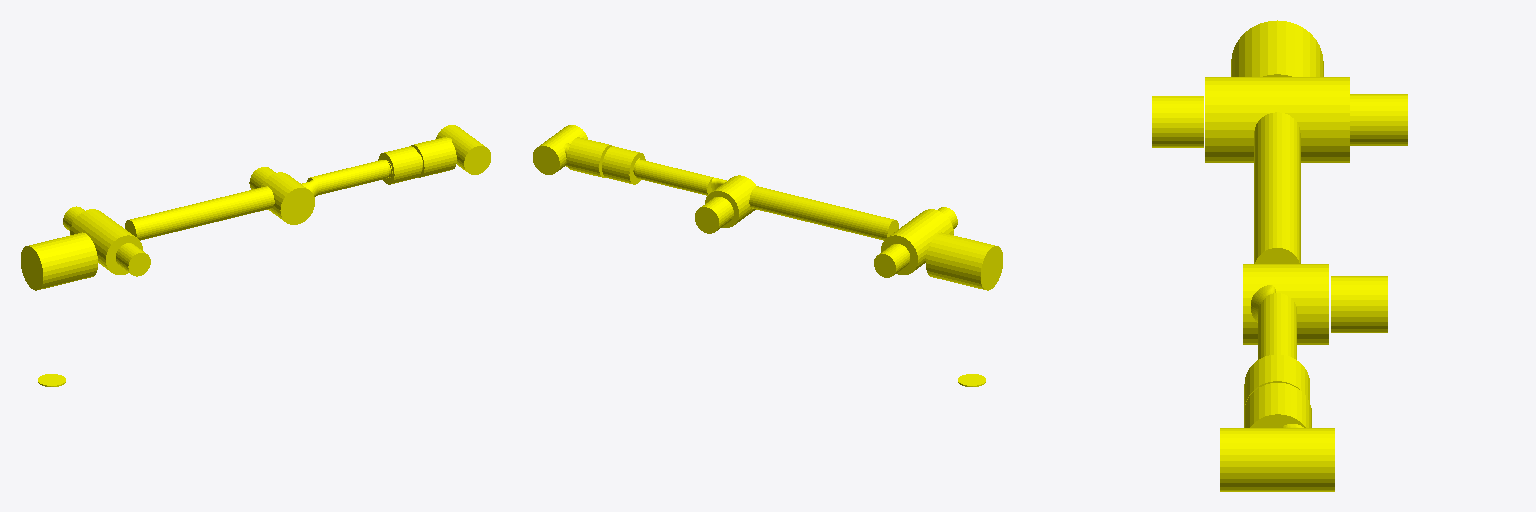
robot.urdf — Sherpa_tt:
<?xml version="1.0"?>
<robot name="Sherpa_tt">
    <material name="Yellow">
        <color rgba="1.0 1.0 0.0 0.5"/>
    </material>
    <material name="Gray">
        <color rgba="0.85 0.85 0.85 1.0"/>
    </material>
    <material name="Black">
        <color rgba="0 0 0 1.0"/>
    </material>

	<!-- Rover -->

    <link name="body">        
        <inertial>
            <origin xyz="0 0 0" rpy="0 0 0"/>
            <mass value="14.1"/>
            <inertia ixx="0" ixy="0" ixz="0" iyy="0" iyz="0" izz="0"/>
        </inertial>
    </link>


    <!-- Manipulator -->

	<!-- Arm mount dummy joint -->
    <joint name="arm_mount_joint" type="fixed">                
            <origin xyz="0.0 0.0 0.0" rpy="0 0 0"/>
            <axis xyz="0 0 1" rpy="0 0 0"/>
            <parent link="body"/>
            <child link="arm_mount_link"/>
            <limit lower="-3.1415926535897931" upper="3.1415926535897931" effort="10" velocity="3.1415926535897931"/>
    </joint>

    <link name="arm_mount_link">
            <visual>
                    <material name="Yellow"/>
                    <origin xyz="0 0 0 " rpy="0 0 0"/>
                    <geometry>
                            <cylinder length="0.005" radius="0.05"/>
                    </geometry>
            </visual>
    </link>

    <link name="arm_link_1">
        <inertial>
            <origin xyz="0 0 0.0" rpy="0 0 0"/>
            <mass value="5.0"/>
            <inertia ixx="0" ixy="0" ixz="0" iyy="0" iyz="0" izz="0"/>
        </inertial>
        <visual>
            <material name="Yellow"/>
            <origin xyz="0 0 0.0" rpy="0 0 0"/>
            <geometry>
                <mesh filename="./meshes/manipulator/sherpa_arm_joint_1.stl" scale="0.001 0.001 0.001"/>
            </geometry>
        </visual>
        <visual>
            <material name="Yellow"/>
            <origin xyz="0.22 0 0.48" rpy="0 1.570796327 1.570796327"/>
            <geometry>
                <!--mesh filename="./meshes/manipulator/sherpa_arm_joint_1.stl" scale="0.001 0.001 0.001" /-->
                <cylinder length="0.25" radius="0.075"/>
            </geometry>
        </visual>
        <visual>
            <material name="Yellow"/>
            <origin xyz="0.22 0.176 0.48" rpy="0 1.570796327 1.570796327"/>
            <geometry>
                <!--mesh filename="./meshes/manipulator/sherpa_arm_joint_1.stl" scale="0.001 0.001 0.001" /-->
                <cylinder length="0.1" radius="0.045"/>
            </geometry>
        </visual>
        <visual>
            <material name="Yellow"/>
            <origin xyz="0.2275 -0.172 0.48" rpy="0 1.570796327 1.570796327"/>
            <geometry>
                <!--mesh filename="./meshes/manipulator/sherpa_arm_joint_1.stl" scale="0.001 0.001 0.001" /-->
                <cylinder length="0.09" radius="0.045"/>
            </geometry>
        </visual>
        <visual>
            <material name="Yellow"/>
            <origin xyz="0.03 0.0 0.45" rpy="0 1.570796327 0"/>
            <geometry>
                <cylinder length="0.22" radius="0.08"/>
                <!--cylinder length="0.24" radius="0.08"/-->
            </geometry>
        </visual>
	<collision>
            <material name="Yellow"/>
            <origin xyz="0.22 0 0.48" rpy="0 1.570796327 1.570796327"/>
            <geometry>
                <cylinder length="0.25" radius="0.075"/>
            </geometry>
        </collision>
        <collision>
            <material name="Yellow"/>
            <origin xyz="0.22 0.176 0.48" rpy="0 1.570796327 1.570796327"/>
            <geometry>
                <cylinder length="0.1" radius="0.045"/>
            </geometry>
        </collision>
        <collision>
            <material name="Yellow"/>
            <origin xyz="0.2275 -0.172 0.48" rpy="0 1.570796327 1.570796327"/>
            <geometry>
                <cylinder length="0.09" radius="0.045"/>
            </geometry>
        </collision>
        <collision>
            <material name="Yellow"/>
            <origin xyz="0.03 0.0 0.45" rpy="0 1.570796327 0"/>
            <geometry>
                <cylinder length="0.22" radius="0.08"/>
            </geometry>
    </collision>
    </link>
    <joint name="arm_joint_1" type="revolute">
        <parent link="arm_mount_link"/>
        <child link="arm_link_1"/>
        <origin xyz="0 0 0.0" rpy="0 0 0"/>
        <axis xyz="0 0 1"/>
        <limit lower="-3.05432" upper="+3.05432" effort="1" velocity="3.1415926535897931"/>
    </joint>

    <link name="arm_link_2">
        <inertial>
            <origin xyz="0 0 0.0" rpy="0 0 0.0"/>
            <mass value="5.0"/>
            <inertia ixx="0" ixy="0" ixz="0" iyy="0" iyz="0" izz="0"/>
        </inertial>
        <visual>
            <material name="Yellow"/>
            <origin xyz="0 0 0.0" rpy="0 0 0"/>
            <geometry>
                <mesh filename="./meshes/manipulator/sherpa_arm_joint_2.stl" scale="0.001 0.001 0.001"/>
            </geometry>
        </visual>
        <visual>
            <material name="Yellow"/>
            <origin xyz="0.37 0.0 0.0" rpy="0 1.570796327 0"/>
            <geometry>
                <cylinder length="0.555" radius="0.04"/>
            </geometry>
        </visual>
        <visual>
            <material name="Yellow"/>
            <origin xyz="0.73 0.03 0.015" rpy="0 0 0"/>
            <geometry>
                <cylinder length="0.148" radius="0.07"/>
            </geometry>
        </visual>
        <visual>
            <material name="Yellow"/>
            <origin xyz="0.73 0.03 0.142" rpy="0 0 0"/>
            <geometry>
                <cylinder length="0.1" radius="0.05"/>
            </geometry>
        </visual>
        <collision>
            <material name="Yellow"/>
            <origin xyz="0.37 0.0 0.0" rpy="0 1.570796327 0"/>
            <geometry>
                <cylinder length="0.555" radius="0.04"/>
            </geometry>
        </collision>
        <collision>
            <material name="Yellow"/>
            <origin xyz="0.73 0.03 0.015" rpy="0 0 0"/>
            <geometry>
                <cylinder length="0.148" radius="0.07"/>
            </geometry>
        </collision>
        <collision>
            <material name="Yellow"/>
            <origin xyz="0.73 0.03 0.142" rpy="0 0 0"/>
            <geometry>
                <cylinder length="0.1" radius="0.05"/>
            </geometry>
        </collision>
    </link>
    <joint name="arm_joint_2" type="revolute">
        <parent link="arm_link_1"/>
        <child link="arm_link_2"/>
        <origin xyz="0.225 0 0.50" rpy="-1.570796327 0 0"/>
        <axis xyz="0 0 1"/>
        <limit lower="-2.094395102" upper="+1.047197551" effort="1" velocity="3.1415926535897931"/>
        
    </joint>

    <link name="arm_link_3">
        <inertial>
            <origin xyz="0 0 0.0" rpy="0 0 0"/>
            <mass value="5.0"/>
            <inertia ixx="0" ixy="0" ixz="0" iyy="0" iyz="0" izz="0"/>
        </inertial>
        <visual>
            <material name="Yellow"/>
            <origin xyz="0 0 0.0" rpy="0 0 0"/>
            <geometry>
                <mesh filename="./meshes/manipulator/sherpa_arm_joint_3.stl" scale="0.001 0.001 0.001"/>
            </geometry>
        </visual>
        <visual>
            <material name="Yellow"/>
            <origin xyz="0.23 0 0.03" rpy="0 1.570796327 0"/>
            <geometry>
                <cylinder length="0.29" radius="0.034"/>
            </geometry>
        </visual>
        <visual>
            <material name="Yellow"/>
            <origin xyz="0.44 0 0.03" rpy="0 1.570796327 0"/>
            <geometry>
                <cylinder length="0.11" radius="0.057"/>
            </geometry>
        </visual>
        <collision>
            <material name="Yellow"/>
            <origin xyz="0.23 0 0.03" rpy="0 1.570796327 0"/>
            <geometry>
                <cylinder length="0.29" radius="0.034"/>
            </geometry>
        </collision>
        <collision>
            <material name="Yellow"/>
            <origin xyz="0.44 0 0.03" rpy="0 1.570796327 0"/>
            <geometry>
                <cylinder length="0.11" radius="0.057"/>
            </geometry>
        </collision>
    </link>
    <joint name="arm_joint_3" type="revolute">
        <parent link="arm_link_2"/>
        <child link="arm_link_3"/>
        <origin xyz="0.735 0.030 0" rpy="1.570796327 0 0"/>
        <axis xyz="0 1 0"/>
        <limit lower="-1.919862177" upper="+3.001966313" effort="1" velocity="3.1415926535897931"/>
    </joint>

    <link name="arm_link_4">
        <inertial>
            <origin xyz="0 0 0.0" rpy="0 0 0"/>
            <mass value="5.0"/>
            <inertia ixx="0" ixy="0" ixz="0" iyy="0" iyz="0" izz="0"/>
        </inertial>
        <visual>
            <material name="Yellow"/>
            <origin xyz="0 0 0.0" rpy="0 0 0"/>
            <geometry>
                <mesh filename="./meshes/manipulator/sherpa_arm_joint_4.stl" scale="0.001 0.001 0.001"/>
            </geometry>
        </visual>
        <visual>
            <material name="Yellow"/>
            <origin xyz="-0.125 0.0 0.001" rpy="0 1.570796327 0"/>
            <geometry>
                <cylinder length="0.13" radius="0.059"/>
            </geometry>
        </visual>
        <visual>
            <material name="Yellow"/>
            <origin xyz="0.0 0.0 0.0" rpy="0 0 0"/>
            <geometry>
                <cylinder length="0.2" radius="0.055"/>
            </geometry>
        </visual>
        <collision>
            <material name="Yellow"/>
            <origin xyz="-0.125 0.0 0.001" rpy="0 1.570796327 0"/>
            <geometry>
                <cylinder length="0.13" radius="0.059"/>
            </geometry>
        </collision>
        <collision>
            <material name="Yellow"/>
            <origin xyz="0.0 0.0 0.0" rpy="0 0 0"/>
            <geometry>
                <cylinder length="0.2" radius="0.055"/>
            </geometry>
        </collision>
    </link>
    <joint name="arm_joint_4" type="revolute">
        <parent link="arm_link_3"/>
        <child link="arm_link_4"/>
        <origin xyz="0.695 0.0 0.03 " rpy="-1.570796327 0 0"/>
        <axis xyz="1 0 0"/>
        <limit lower="-3.490658504" upper="+3.490658504" effort="1" velocity="3.1415926535897931"/>
    </joint>
</robot>

--- Render facts (derived) ---
The picture shows the robot from 3 angles, left to right: view 1: azimuth 30°, elevation 25°; view 2: azimuth 150°, elevation 25°; view 3: azimuth 270°, elevation 25°; orthographic projection.
Model Sherpa_tt with 6 links and 5 joints (4 revolute, 1 fixed), rooted at body, posed every joint at zero.
Links seen in each view (by area): view 1: arm_link_1, arm_link_2, arm_link_3, arm_link_4; view 2: arm_link_1, arm_link_2, arm_link_3, arm_link_4; view 3: arm_link_1, arm_link_2, arm_link_4, arm_link_3.
Link boxes in pixels (x1,y1,x2,y2): arm_link_1: [21, 206, 150, 290]; arm_link_2: [125, 167, 314, 240]; arm_link_3: [302, 146, 421, 196]; arm_link_4: [388, 125, 490, 177]; arm_link_1: [874, 207, 1002, 290]; arm_link_2: [695, 175, 898, 240]; arm_link_3: [602, 146, 726, 195]; arm_link_4: [533, 125, 642, 177]; arm_link_1: [1152, 20, 1407, 162]; arm_link_2: [1243, 112, 1387, 344]; arm_link_4: [1220, 383, 1334, 491]; arm_link_3: [1244, 285, 1309, 407].
Bounding box of the posed robot: 1.79 × 0.443 × 0.5615 m (x, y, z).
2 mesh visuals loaded from 4 distinct referenced files (2 binary STL); not drawn: 2 (reference not matched to a file when rendering).